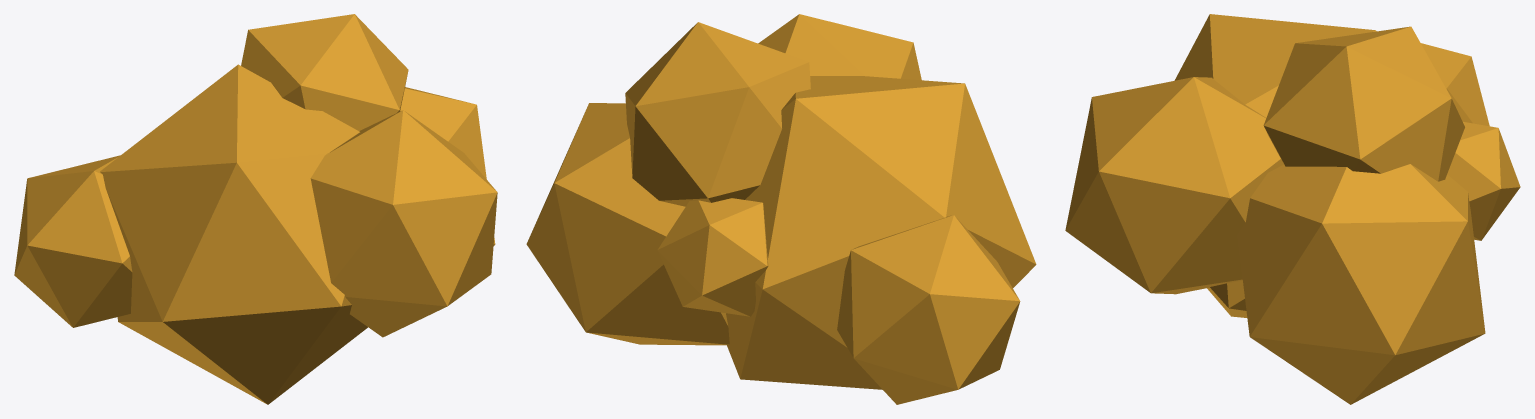
File: rock_3.fbx
The picture shows the model from 3 angles, left to right: view 1: azimuth 30°, elevation 25°; view 2: azimuth 150°, elevation 25°; view 3: azimuth 270°, elevation 25°; orthographic projection. The views are drawn at different scales.
Visible parts, largest first — view 1: BUSH.001, BUSH.006, BUSH.005, BUSH.008, BUSH.007; view 2: BUSH.001, BUSH.007, BUSH.005, BUSH.008, BUSH.009, BUSH.006; view 3: BUSH.007, BUSH.006, BUSH.008, BUSH.001, BUSH.009, BUSH.005.
Boxes of the visible parts, x1,y1,x2,y2 form: BUSH.001: (100,64,367,404); BUSH.006: (310,110,497,337); BUSH.005: (14,155,132,327); BUSH.008: (241,14,408,130); BUSH.007: (400,87,495,245); BUSH.001: (726,76,1036,389); BUSH.007: (526,103,729,345); BUSH.005: (837,215,1020,404); BUSH.008: (625,22,810,206); BUSH.009: (657,198,768,316); BUSH.006: (758,14,921,80); BUSH.007: (1237,164,1485,404); BUSH.006: (1065,77,1283,294); BUSH.008: (1263,26,1464,181); BUSH.001: (1174,14,1376,317); BUSH.009: (1447,121,1520,240); BUSH.005: (1421,43,1489,126).
Size of the model in its own units: 7.03 by 4.79 by 5.74.
